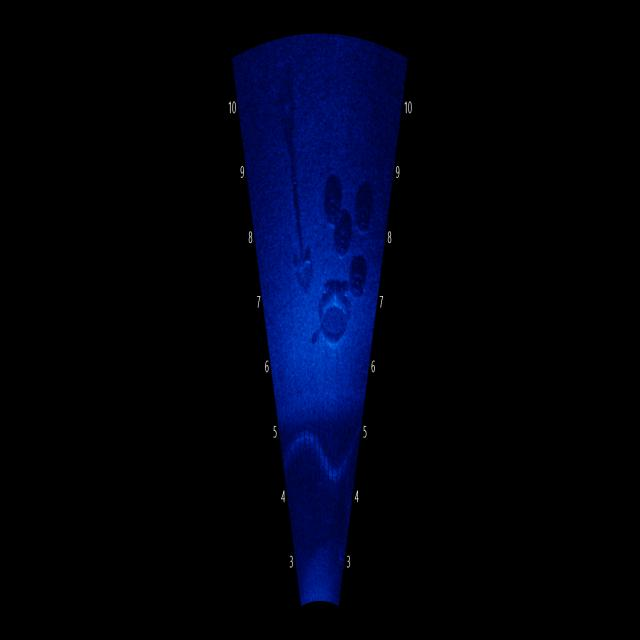circle: (313, 282, 354, 358), (346, 190, 382, 242)
